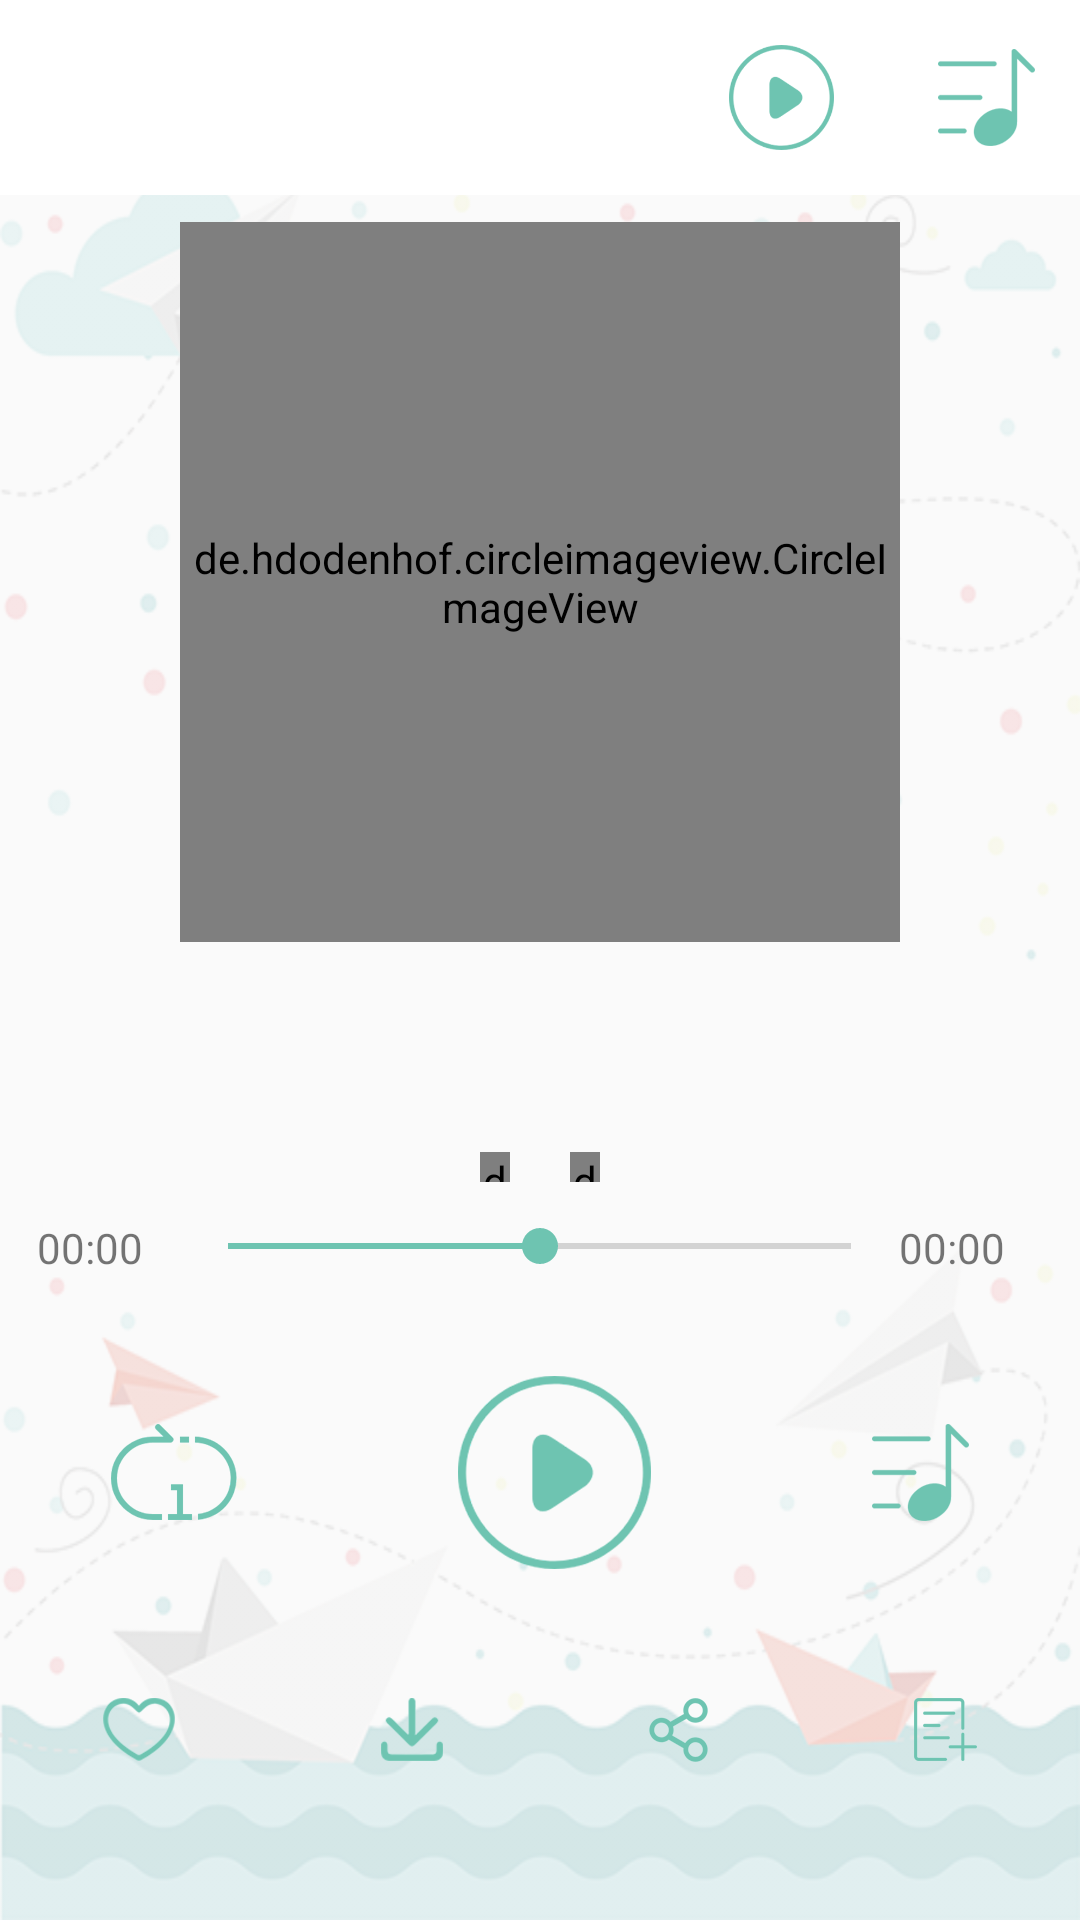

Icon click points for this 1080×1920 phone screenshot, format [x,y]:
bill: [986,97], [948,1472]
cycly play: [174,1472]
play: [781,97], [501,1472]
